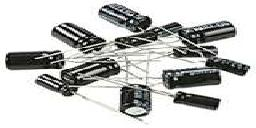Electrolytic Capacitor: (159, 64, 228, 97), (49, 21, 109, 57), (3, 46, 71, 75), (95, 2, 159, 32), (118, 77, 155, 119)
